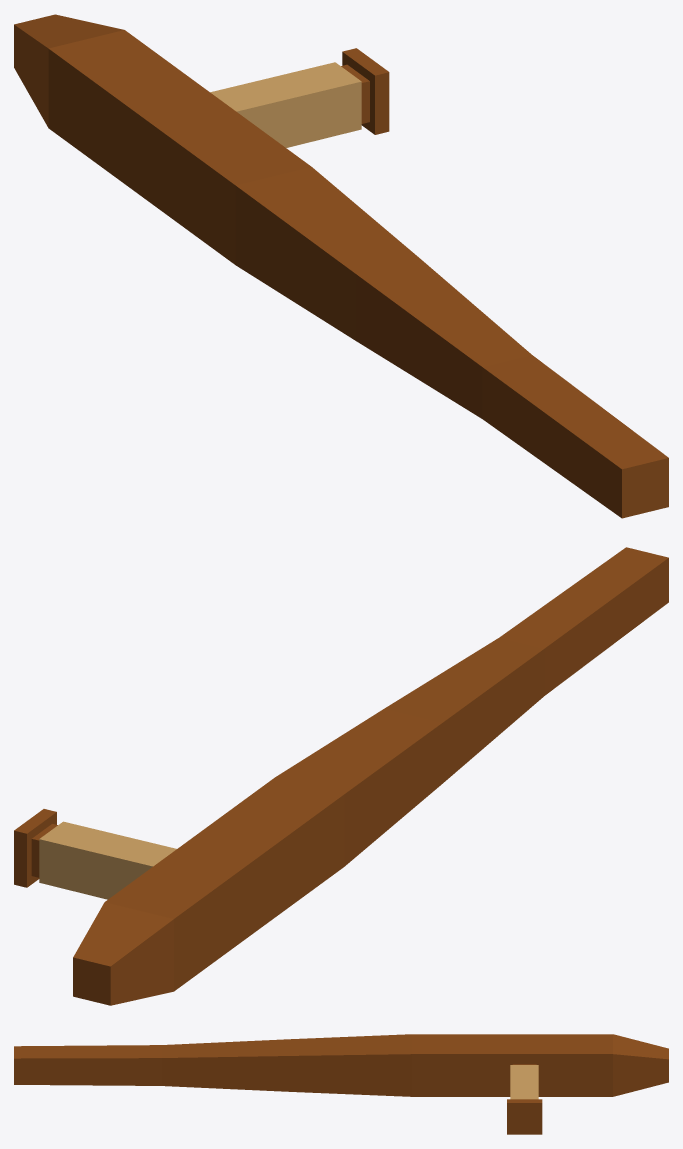
File: Tonfa - Textured Low Poly Asian Weapon Pack by Kickin It Studios.fbx
3 views of the same model, one above another, from view 1: azimuth 30°, elevation 25°; view 2: azimuth 150°, elevation 25°; view 3: azimuth 270°, elevation 25° (orthographic). The views are drawn at different scales.
Visible parts, largest first — view 1: Tonfa; view 2: Tonfa; view 3: Tonfa.
Boxes of the visible parts, box(x1,y1,x2,y2) form: Tonfa: box(14, 14, 668, 518); Tonfa: box(14, 547, 668, 1005); Tonfa: box(14, 1034, 668, 1134).
Size of the model in its own units: 103 by 32.54 by 452.
